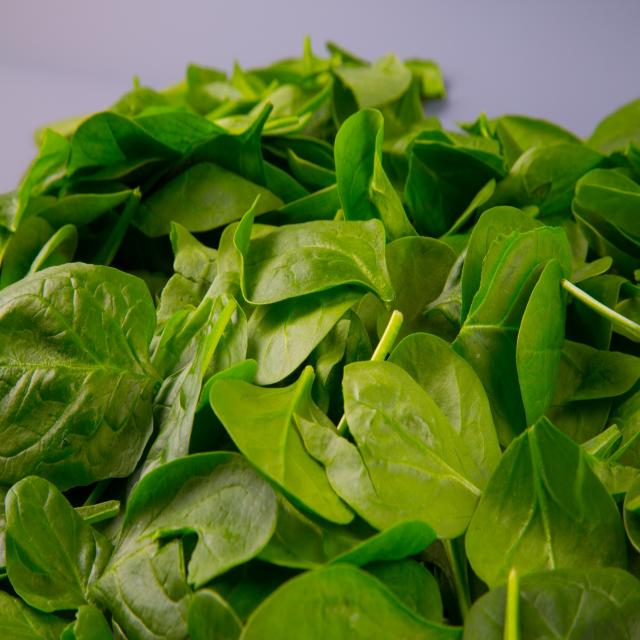spinach: (40, 75, 612, 602), (0, 262, 161, 490), (299, 362, 486, 540), (452, 208, 571, 446), (465, 416, 628, 589), (210, 368, 354, 525), (234, 212, 395, 305), (334, 109, 416, 240)
